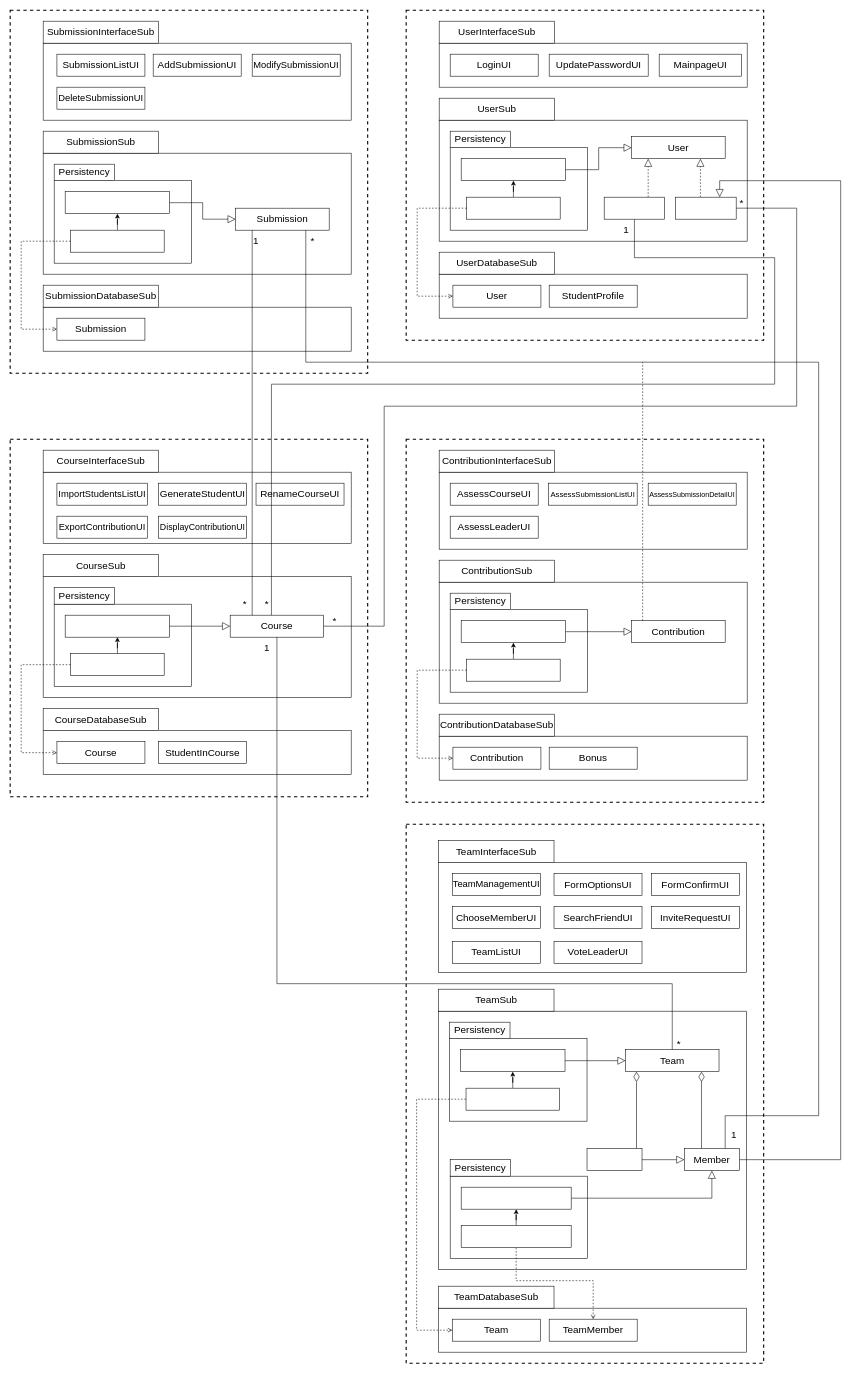
Image size: 858x1373. Some labels were removed from this diagram. Here are the shapes that lost their labels. From the top down, the centre of each, then its label:
the point at 513,169: PersistentUser
the point at 117,202: PersistentSubmission
the point at 513,208: UserMapper
the point at 634,208: Teacher
the point at 705,208: Student
the point at 117,241: SubmissionMapper
the point at 117,626: PersistentCourse
the point at 513,631: PersistentContribution
the point at 117,664: CourseMapper
the point at 513,670: ContributionMapper
the point at 512,1060: PersistentTeam
the point at 512,1099: TeamMapper
the point at 614,1159: Leader
the point at 516,1198: PersistentTeamMember
the point at 516,1236: TeamMemberMapper
